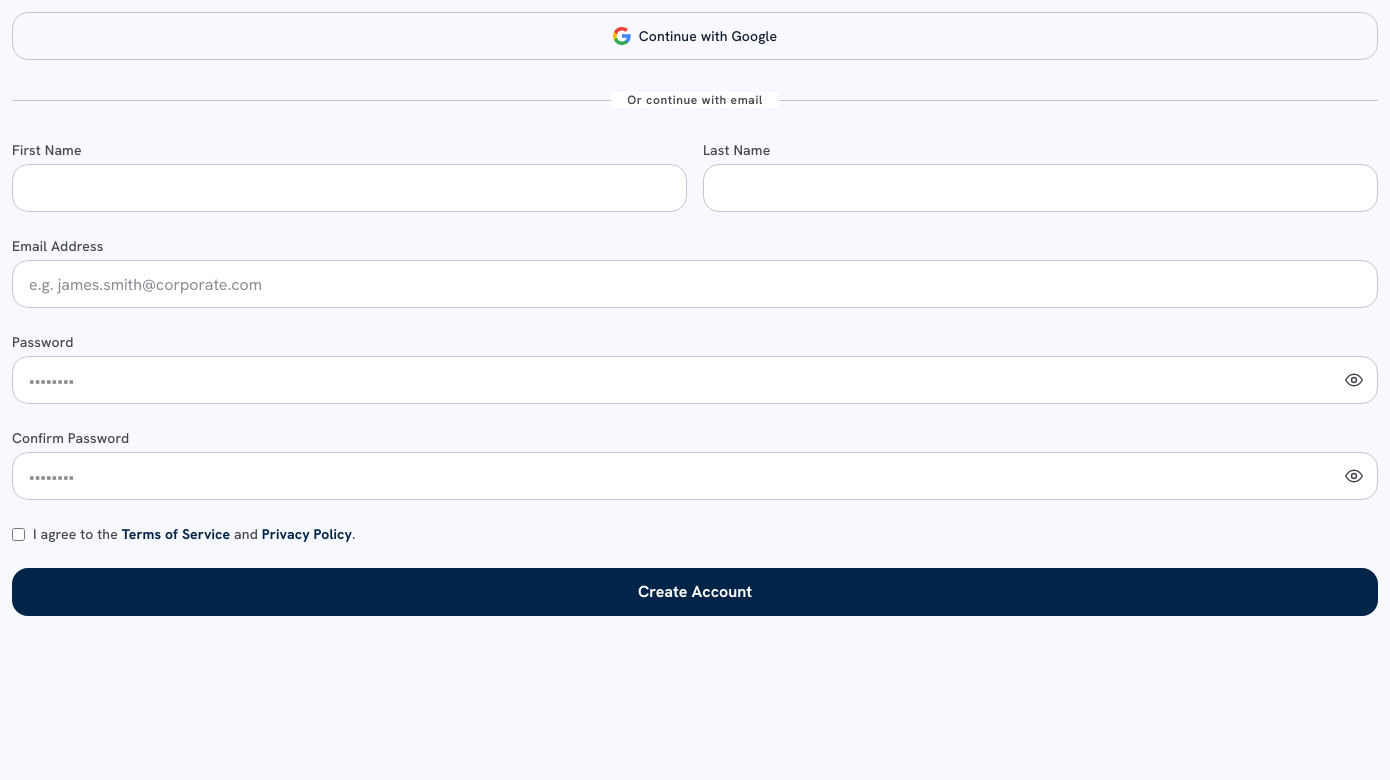
Test: RegisterForm › blocks submission with a duplicate-email error when the typed password doesn't match an existing password account (someone else's account, not a self-recovery)
Type "Ann" into the field labelled "First Name" at [350, 188], box [12, 164, 687, 212]
Type "Lee" into the field labelled "Last Name" at [1040, 188], box [703, 164, 1378, 212]
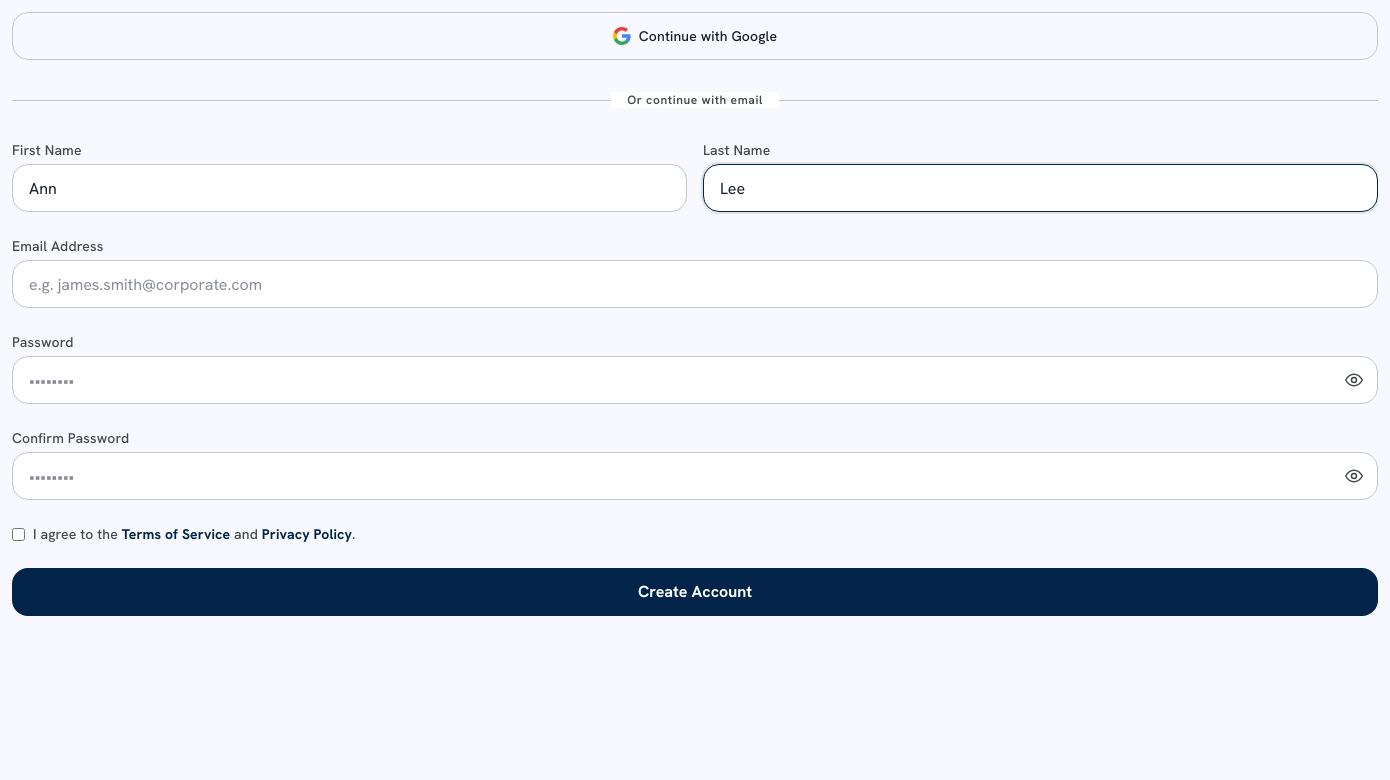
Type "ann@example.com" into the field labelled "Email Address" at [695, 284], box [12, 260, 1378, 308]
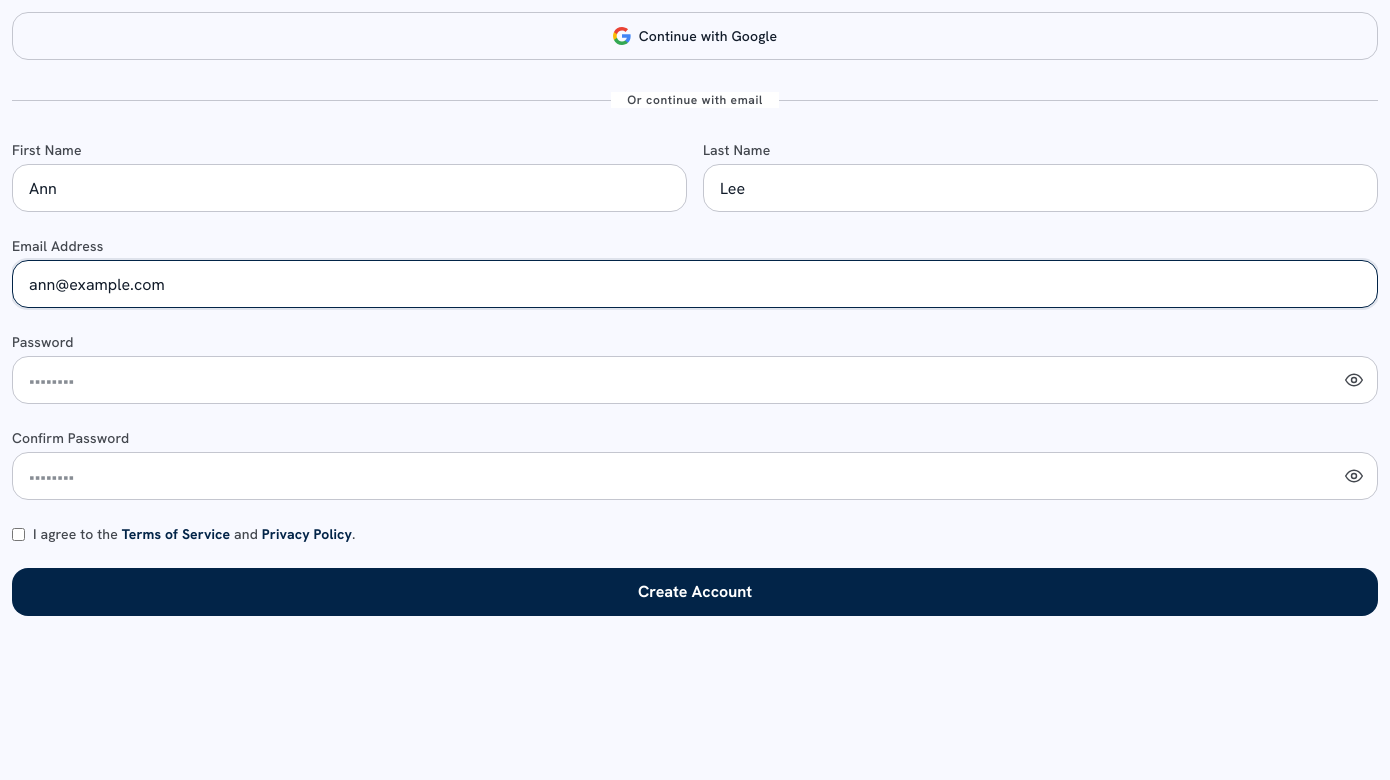
Type "Str0ng!Pass" into the password field labelled "Password" at [695, 380], box [12, 356, 1378, 404]
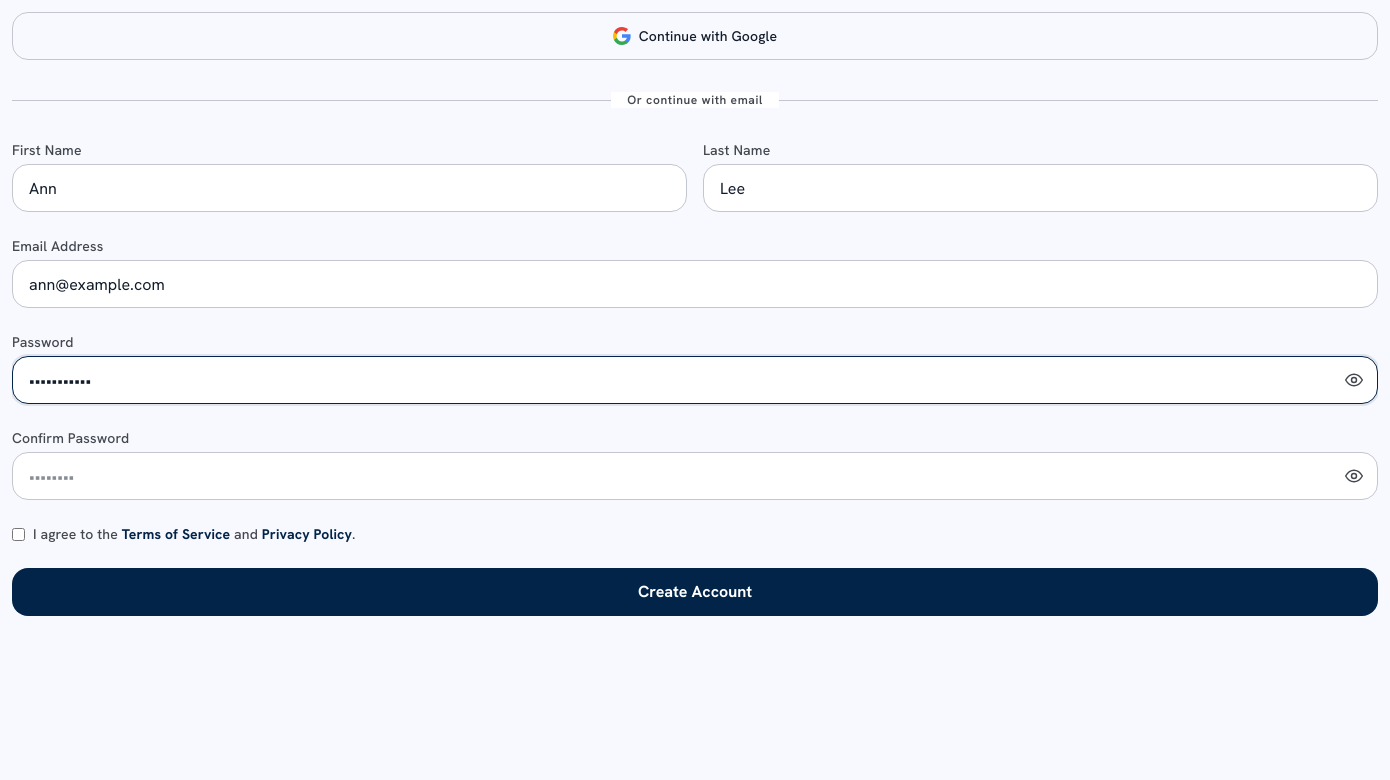
Type "Str0ng!Pass" into the password field labelled "Confirm Password" at [695, 476], box [12, 452, 1378, 500]
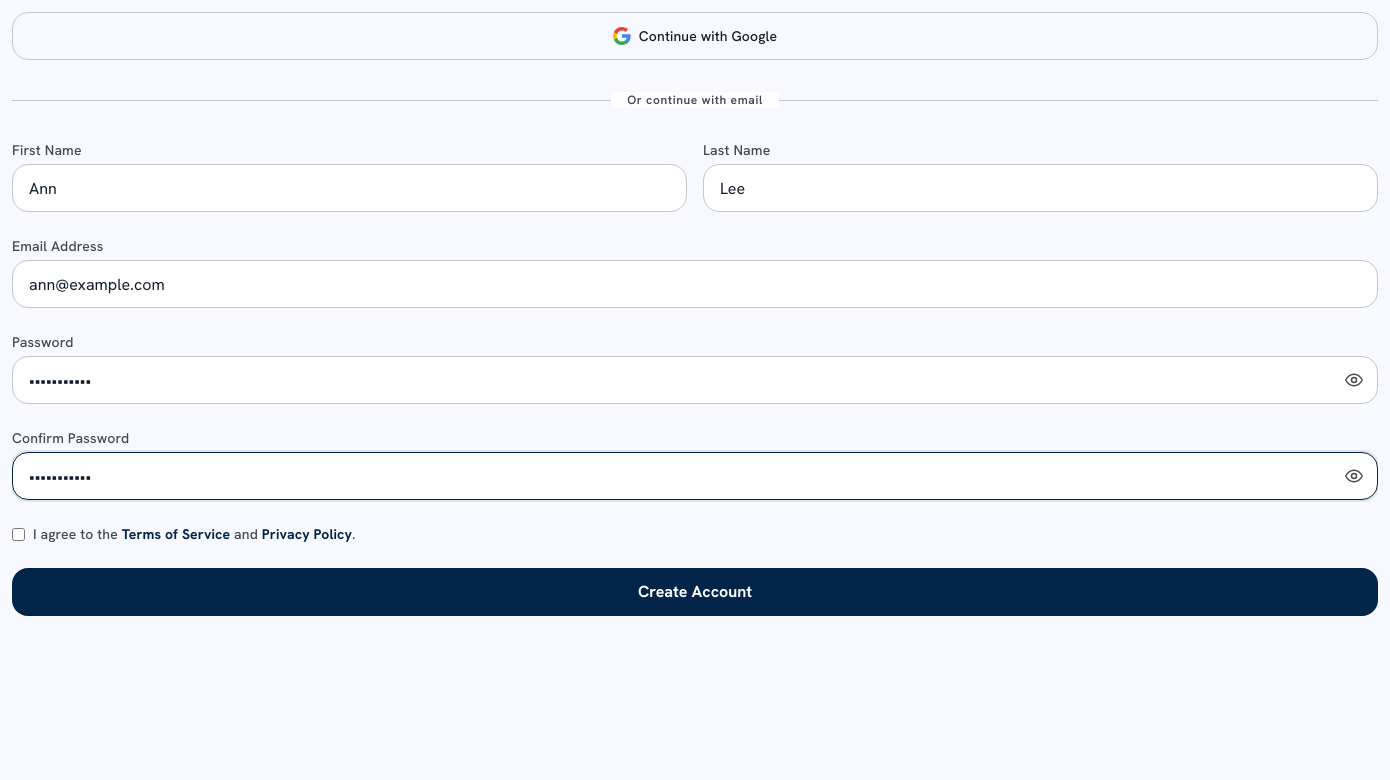
Click the checkbox at [18, 534], box [12, 528, 25, 541]
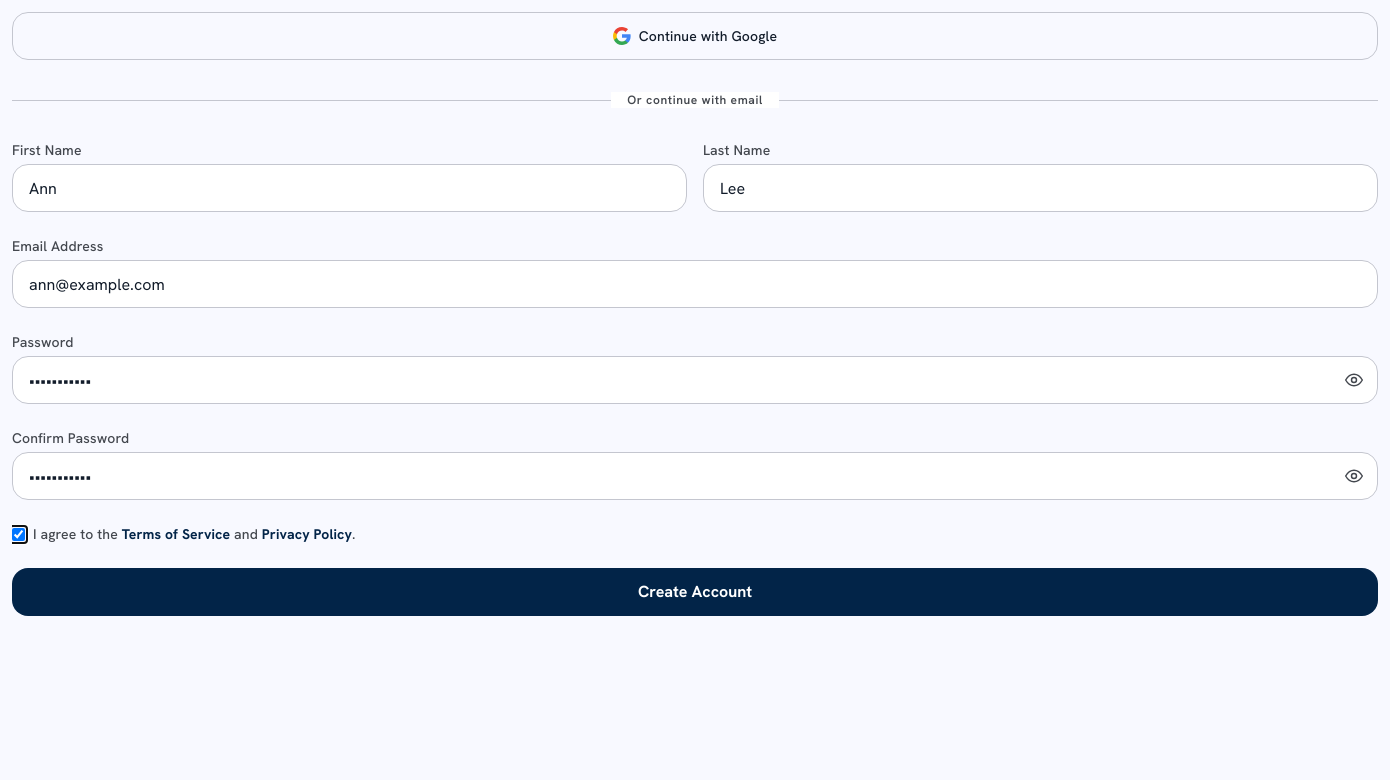
Click the button "Create Account" at [695, 592], box [12, 568, 1378, 616]
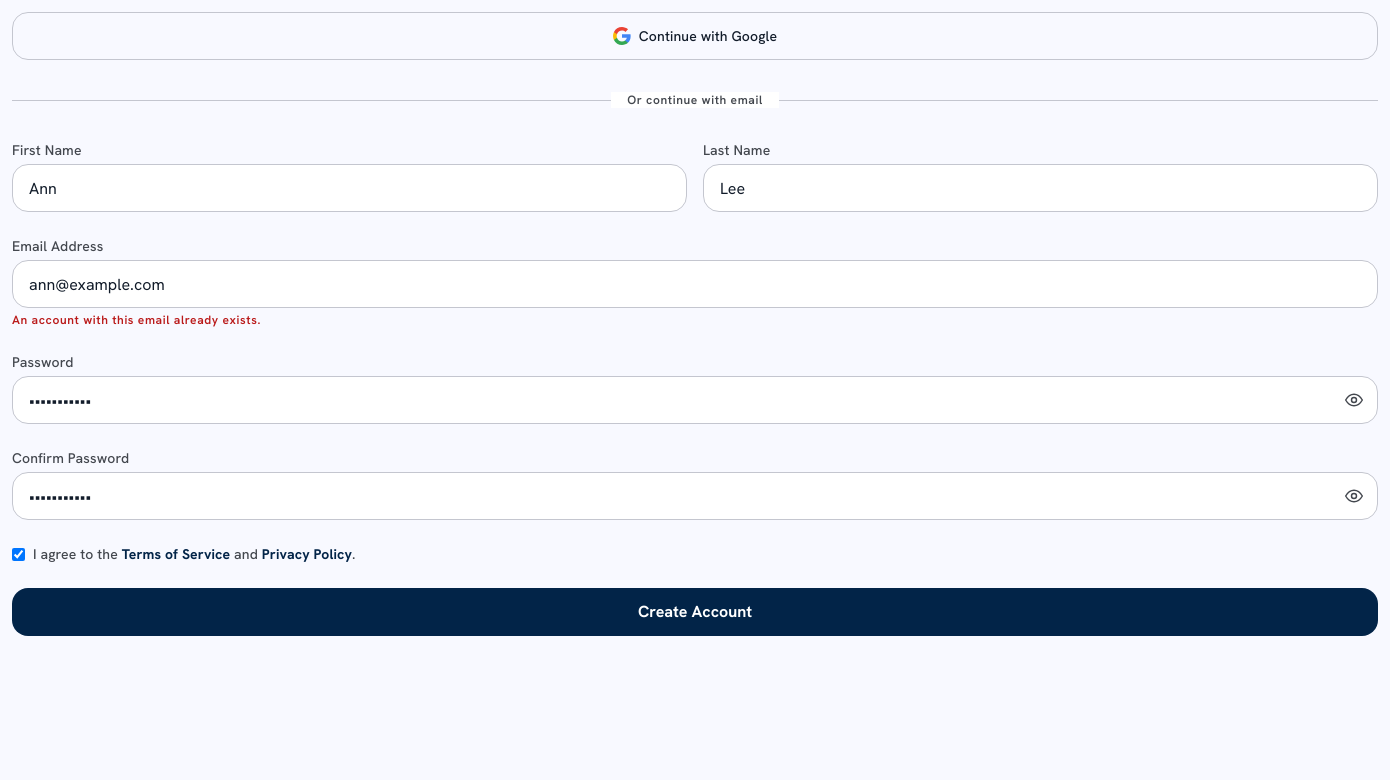
expect the text "An account with this email already exists." is shown: met, box [12, 312, 261, 328]
